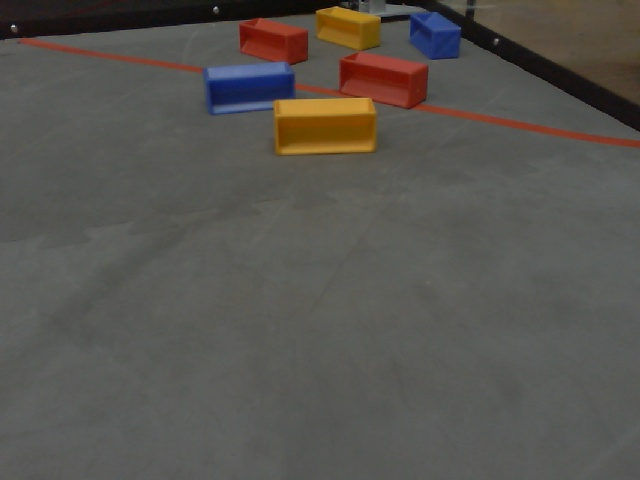BlueSample: (200, 59, 297, 116), (409, 9, 464, 60)
RedSample: (336, 48, 430, 112), (233, 14, 311, 64)
YellowSample: (270, 92, 378, 157), (314, 3, 385, 51)
